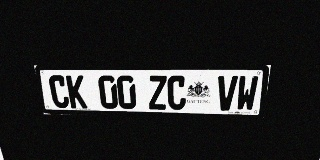0: (97, 75, 118, 109), (116, 75, 136, 109)
C: (48, 75, 70, 108), (167, 75, 186, 110)
K: (66, 75, 88, 108)
V: (216, 76, 238, 111)
W: (235, 76, 259, 111)
Z: (148, 75, 167, 110)
